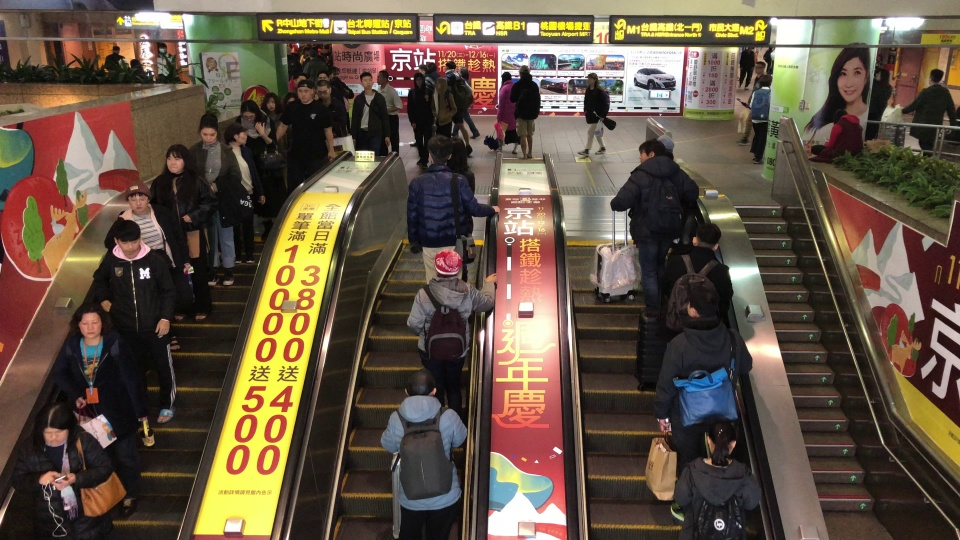person_head: (36, 405, 77, 451), (707, 416, 736, 464), (685, 283, 721, 321), (72, 304, 105, 340), (113, 220, 143, 257), (405, 368, 437, 399), (163, 144, 194, 175), (432, 248, 462, 279), (444, 134, 469, 168), (124, 182, 151, 212), (197, 113, 221, 145), (636, 139, 668, 163), (427, 137, 453, 166), (691, 224, 721, 248), (224, 121, 248, 147), (239, 100, 260, 123), (260, 91, 281, 113), (297, 79, 314, 103), (655, 134, 675, 152), (357, 72, 374, 92), (315, 81, 332, 99), (927, 69, 945, 86), (831, 109, 849, 125), (757, 74, 773, 89), (411, 73, 425, 88), (435, 77, 447, 93), (376, 70, 388, 85), (458, 65, 470, 80), (443, 61, 457, 73), (499, 72, 513, 84), (518, 64, 531, 76), (130, 57, 142, 69), (587, 73, 598, 86), (752, 61, 765, 72), (117, 58, 129, 69), (417, 64, 428, 75), (157, 42, 167, 54), (111, 44, 121, 54), (307, 50, 317, 59), (744, 43, 753, 52)
person_vbox: (655, 283, 753, 521), (64, 303, 151, 519), (405, 248, 500, 415), (101, 220, 178, 425), (102, 182, 195, 350), (379, 368, 467, 540), (12, 405, 120, 540), (613, 138, 698, 308), (404, 136, 500, 283), (148, 143, 218, 323), (671, 415, 765, 540), (186, 113, 243, 285), (662, 224, 735, 340), (274, 78, 336, 194), (234, 100, 285, 234), (224, 120, 265, 266), (893, 68, 959, 157), (629, 133, 695, 214), (576, 73, 617, 159), (803, 109, 865, 165), (443, 135, 476, 237), (352, 72, 390, 156), (511, 63, 543, 159), (259, 92, 291, 186), (406, 73, 437, 166), (443, 60, 473, 155), (734, 61, 766, 148), (374, 70, 404, 157), (491, 71, 520, 154), (748, 73, 774, 164), (456, 65, 481, 140), (314, 81, 347, 137), (431, 76, 457, 137), (736, 42, 756, 90), (154, 41, 175, 80), (302, 50, 327, 79), (416, 63, 436, 95), (103, 44, 126, 70)
